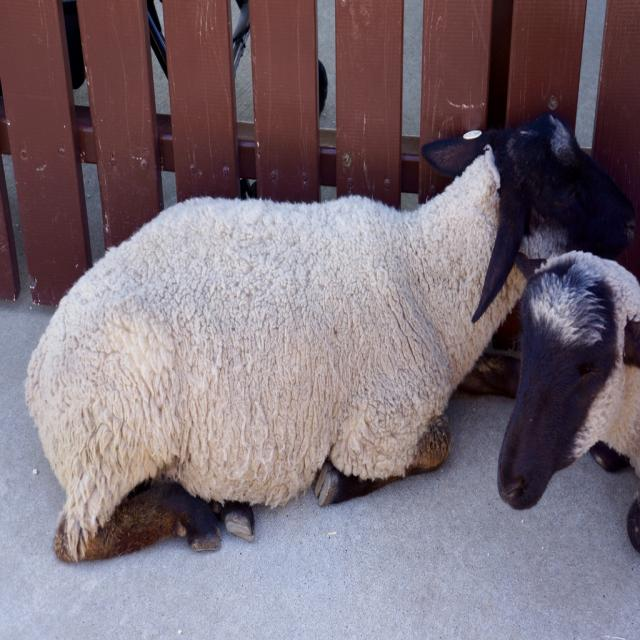Sheep: (25, 113, 636, 562)
